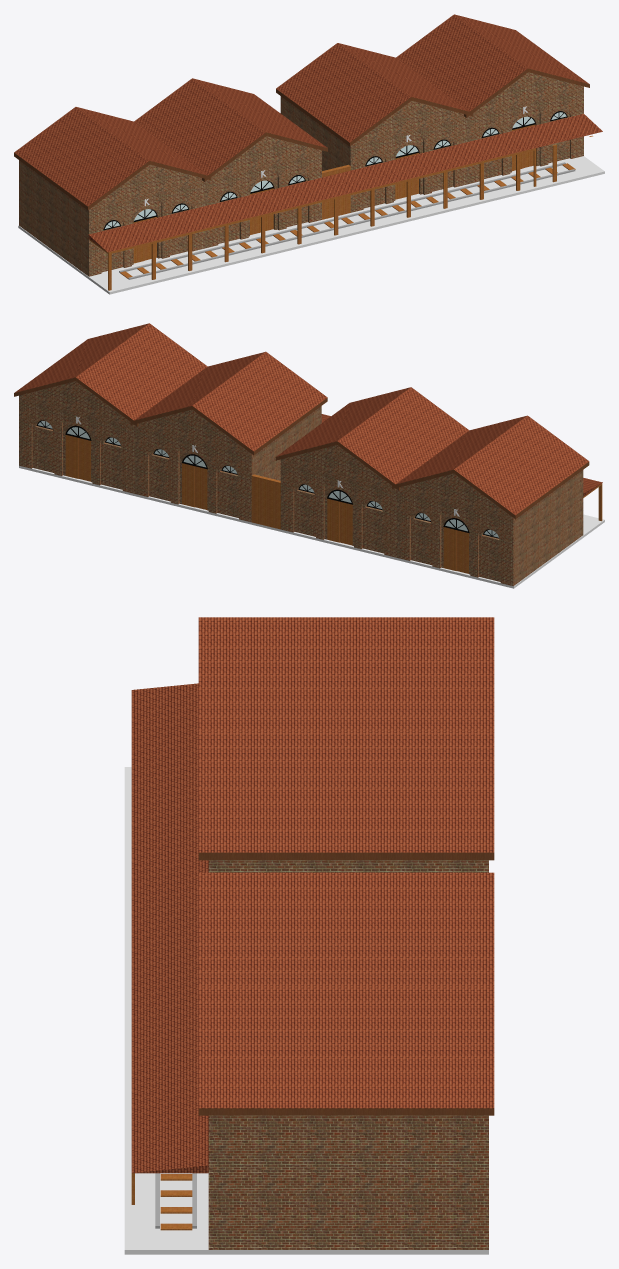
3 views of the same model, one above another, from view 1: azimuth 30°, elevation 25°; view 2: azimuth 150°, elevation 25°; view 3: azimuth 270°, elevation 25° (orthographic). The views are drawn at different scales.
Visible parts, largest first — view 1: Object_159, Object_9, Object_157, Object_119, Object_5, Object_43, Object_81, Object_123, Object_85, Object_47, Object_165, Object_161 (+7 smaller); view 2: Object_9, Object_123, Object_119, Object_5, Object_43, Object_81, Object_47, Object_85, Object_157, Object_169, Object_55, Object_17 (+6 smaller); view 3: Object_85, Object_81, Object_43, Object_119, Object_159, Object_5, Object_157, Object_47, Object_45, Object_83, Object_167.
Part boxes in pixels (left/top/right/bottom): Object_159: left=88, top=113, right=602, bottom=252; Object_9: left=19, top=160, right=205, bottom=276; Object_157: left=18, top=156, right=604, bottom=294; Object_119: left=276, top=43, right=468, bottom=142; Object_5: left=14, top=107, right=207, bottom=206; Object_43: left=134, top=78, right=327, bottom=175; Object_81: left=396, top=14, right=588, bottom=111; Object_123: left=280, top=96, right=467, bottom=212; Object_85: left=467, top=72, right=583, bottom=184; Object_47: left=205, top=136, right=321, bottom=247; Object_165: left=119, top=162, right=575, bottom=279; Object_161: left=151, top=135, right=592, bottom=279; Object_9: left=397, top=470, right=583, bottom=586; Object_123: left=135, top=406, right=321, bottom=522; Object_119: left=134, top=351, right=327, bottom=451; Object_5: left=396, top=415, right=588, bottom=515; Object_43: left=276, top=387, right=469, bottom=484; Object_81: left=14, top=323, right=207, bottom=420; Object_47: left=280, top=445, right=396, bottom=557; Object_85: left=19, top=381, right=135, bottom=493; Object_157: left=19, top=465, right=604, bottom=588; Object_169: left=251, top=474, right=280, bottom=529; Object_55: left=327, top=498, right=352, bottom=545; Object_17: left=443, top=527, right=468, bottom=573; Object_85: left=208, top=1115, right=488, bottom=1249; Object_81: left=198, top=986, right=494, bottom=1108; Object_43: left=198, top=731, right=494, bottom=852; Object_119: left=198, top=872, right=494, bottom=986; Object_159: left=131, top=683, right=208, bottom=1173; Object_5: left=198, top=617, right=494, bottom=730; Object_157: left=124, top=767, right=488, bottom=1254; Object_47: left=208, top=860, right=488, bottom=872; Object_45: left=198, top=852, right=494, bottom=860; Object_83: left=198, top=1108, right=494, bottom=1115; Object_167: left=160, top=1174, right=192, bottom=1230.
Size of the model in its own units: 47.55 by 9.59 by 15.19.
Materials: 9 (4 with a texture image).
